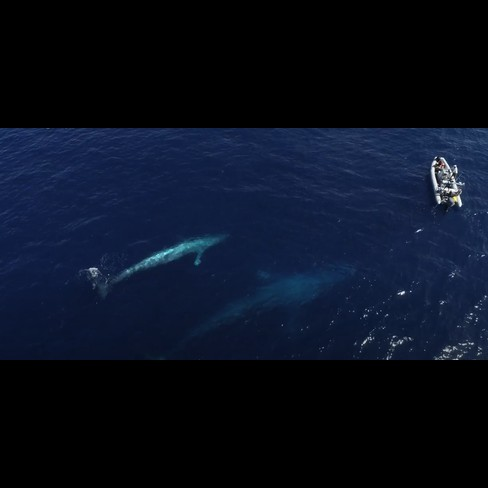bluewhale: (151, 259, 372, 360), (80, 228, 241, 300)
boat: (422, 151, 469, 212)
